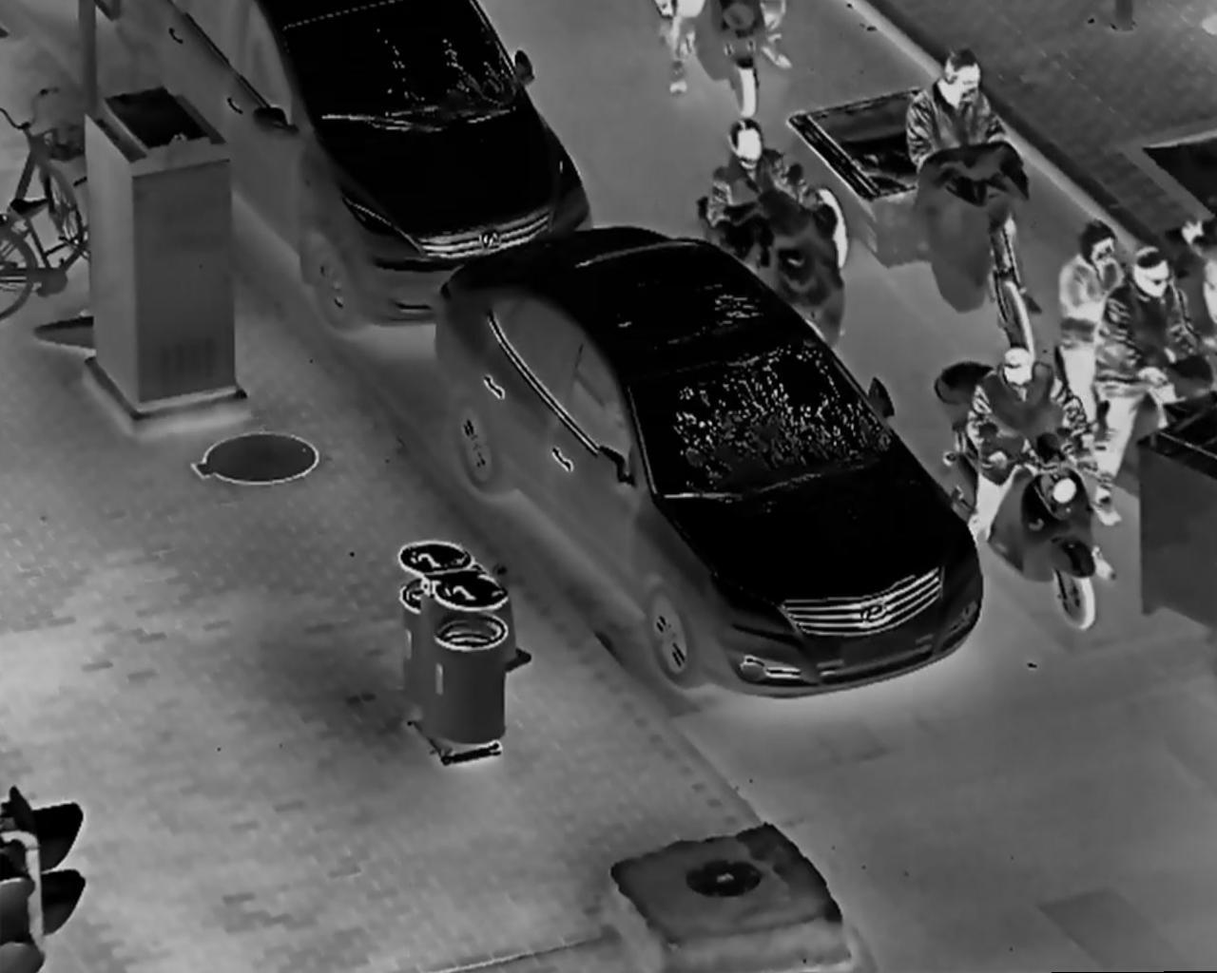person: (1088, 247, 1209, 525), (904, 48, 1026, 284), (967, 344, 1093, 550), (706, 115, 824, 315), (1052, 217, 1130, 448)
